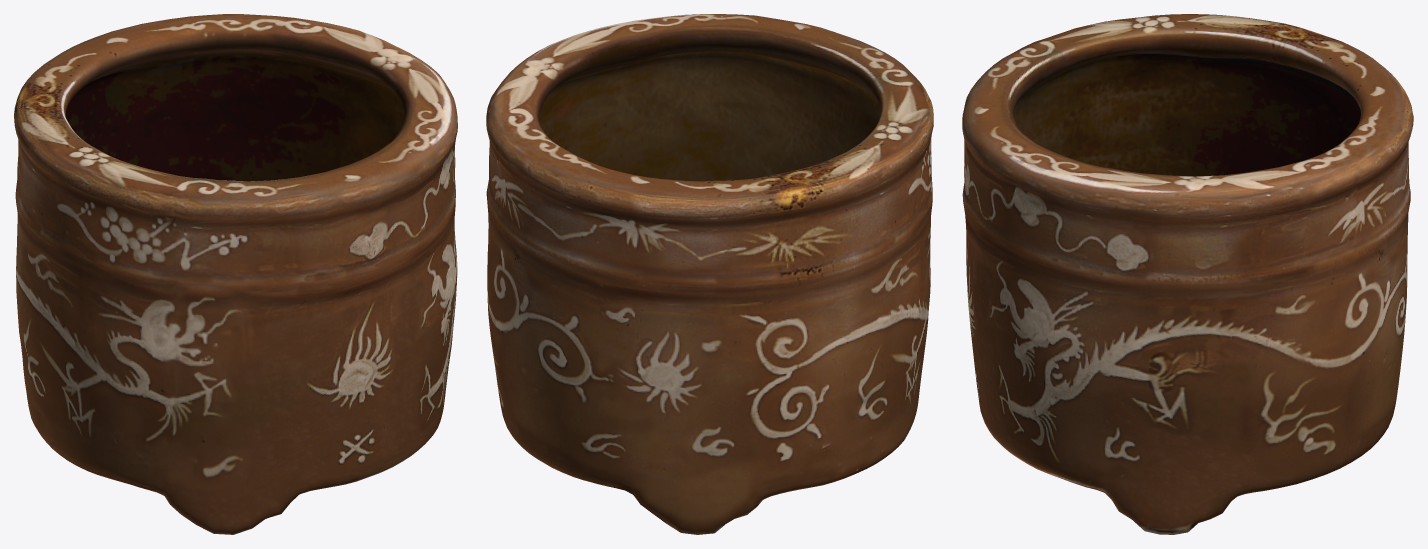
The picture shows the model from 3 angles, left to right: view 1: azimuth 30°, elevation 25°; view 2: azimuth 150°, elevation 25°; view 3: azimuth 270°, elevation 25°; orthographic projection.
Parts seen in each view (by area): view 1: SZB_zzl_135_9; view 2: SZB_zzl_135_9; view 3: SZB_zzl_135_9.
Part boxes in pixels (x1,y1,x2,y2): SZB_zzl_135_9: (14, 14, 457, 534); SZB_zzl_135_9: (486, 14, 933, 534); SZB_zzl_135_9: (962, 14, 1413, 534).
Bounding box in the file's own units: 21.65 × 18.93 × 22.03.
